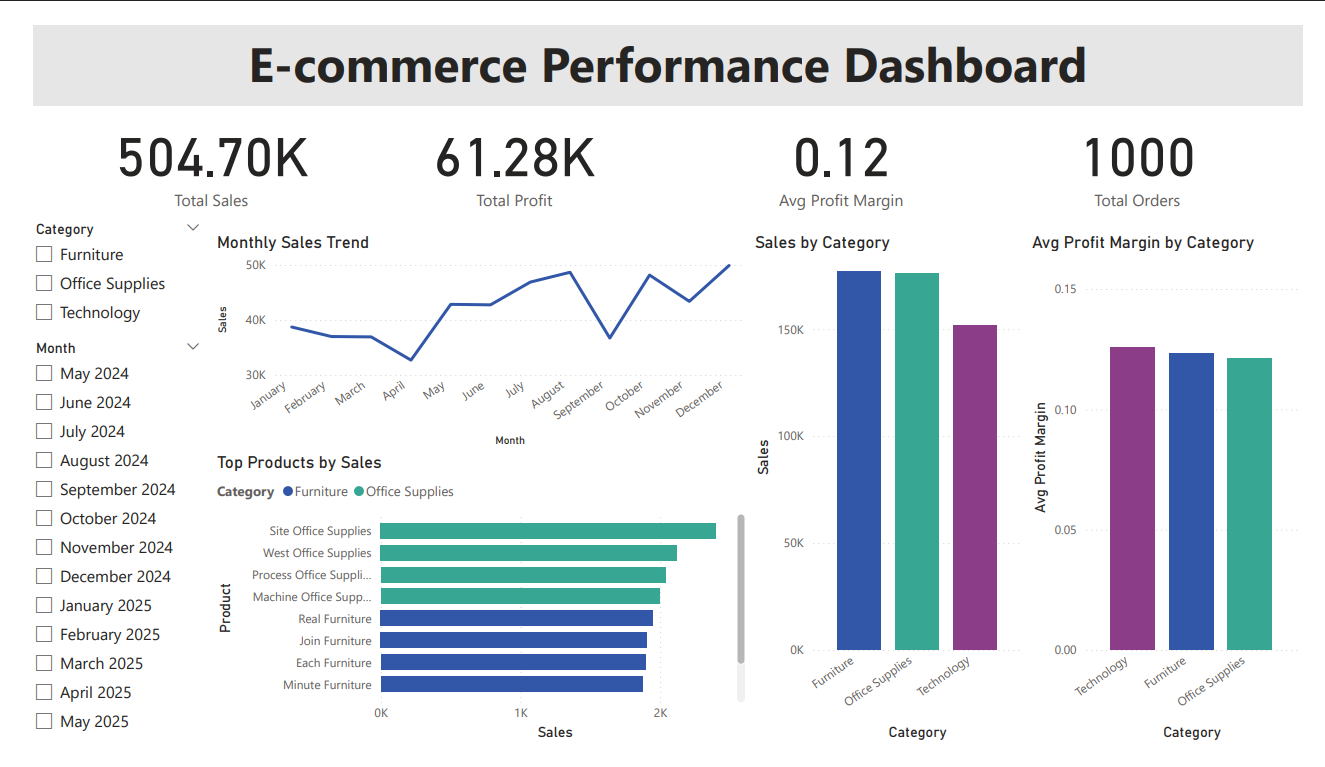

The page's visual inventory and layout, read from the dashboard file:
{"tool":"powerbi","page":{"name":"E-Commerce Dashboard","canvas":[1280,720],"ordinal":0},"visuals":[{"type":"textbox","box":[9.6,0,1270.7,81],"z":0},{"type":"card","fields":{"Values":["Sum(ecommerce_mockup.Sales)"]},"box":[78.2,81,220.9,109.8],"z":1000},{"type":"card","fields":{"Values":["Sum(ecommerce_mockup.Profit)"]},"box":[381.5,81,220.9,109.8],"z":2000},{"type":"card","fields":{"Values":["ecommerce_mockup.Avg Profit Margin"]},"box":[708.1,81,220.9,109.8],"z":3000},{"type":"card","fields":{"Values":["ecommerce_mockup.Total Orders"]},"box":[1004.5,81,220.9,109.8],"z":4000},{"type":"lineChart","title":"Monthly Sales Trend","fields":{"Category":["ecommerce_mockup.Order Date.Variation.Date Hierarchy.Month"],"Y":["Sum(ecommerce_mockup.Sales)"]},"box":[189.4,207.2,537.9,219.6],"z":5000},{"type":"columnChart","title":"Sales by Category","fields":{"Category":["ecommerce_mockup.Category"],"Y":["Sum(ecommerce_mockup.Sales)"],"Series":["ecommerce_mockup.Category"]},"box":[727.3,207.2,277.2,513.2],"z":6000},{"type":"columnChart","title":"Avg Profit Margin by Category","fields":{"Category":["ecommerce_mockup.Category"],"Y":["ecommerce_mockup.Avg Profit Margin"],"Series":["ecommerce_mockup.Category"]},"box":[1004.5,207.2,275.8,513.2],"z":7000},{"type":"barChart","title":"Top Products by Sales","fields":{"Category":["ecommerce_mockup.Product"],"Y":["Sum(ecommerce_mockup.Sales)"],"Series":["ecommerce_mockup.Category"]},"box":[189.4,426.8,537.9,293.7],"z":8000},{"type":"slicer","fields":{"Values":["ecommerce_mockup.Category"]},"box":[0,190.7,189.4,119.4],"z":8001},{"type":"slicer","fields":{"Values":["ecommerce_mockup.Month"]},"box":[0,310.1,189.4,410.3],"z":8002}]}

Visuals, with their boxes in screenshot pixels (x1, y1, x2, y2), scaled from the page's 1280x720 canvas onto the 1325x767 screenshot:
textbox: [10,0,1324,86]
card - Sum(ecommerce_mockup.Sales): [81,86,310,203]
card - Sum(ecommerce_mockup.Profit): [395,86,624,203]
card - ecommerce_mockup.Avg Profit Margin: [733,86,962,203]
card - ecommerce_mockup.Total Orders: [1040,86,1268,203]
"Monthly Sales Trend" lineChart: [196,221,753,455]
"Sales by Category" columnChart: [753,221,1040,766]
"Avg Profit Margin by Category" columnChart: [1040,221,1324,766]
"Top Products by Sales" barChart: [196,455,753,766]
slicer - ecommerce_mockup.Category: [0,203,196,330]
slicer - ecommerce_mockup.Month: [0,330,196,766]
